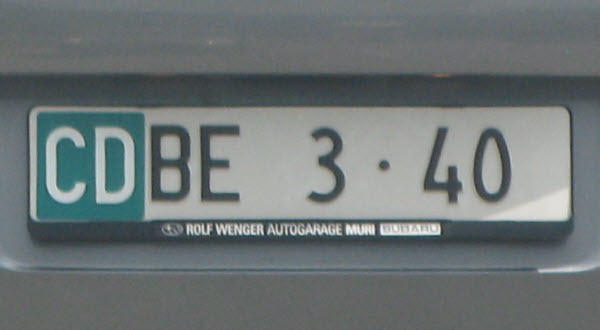license_plate: (27, 104, 573, 226)
